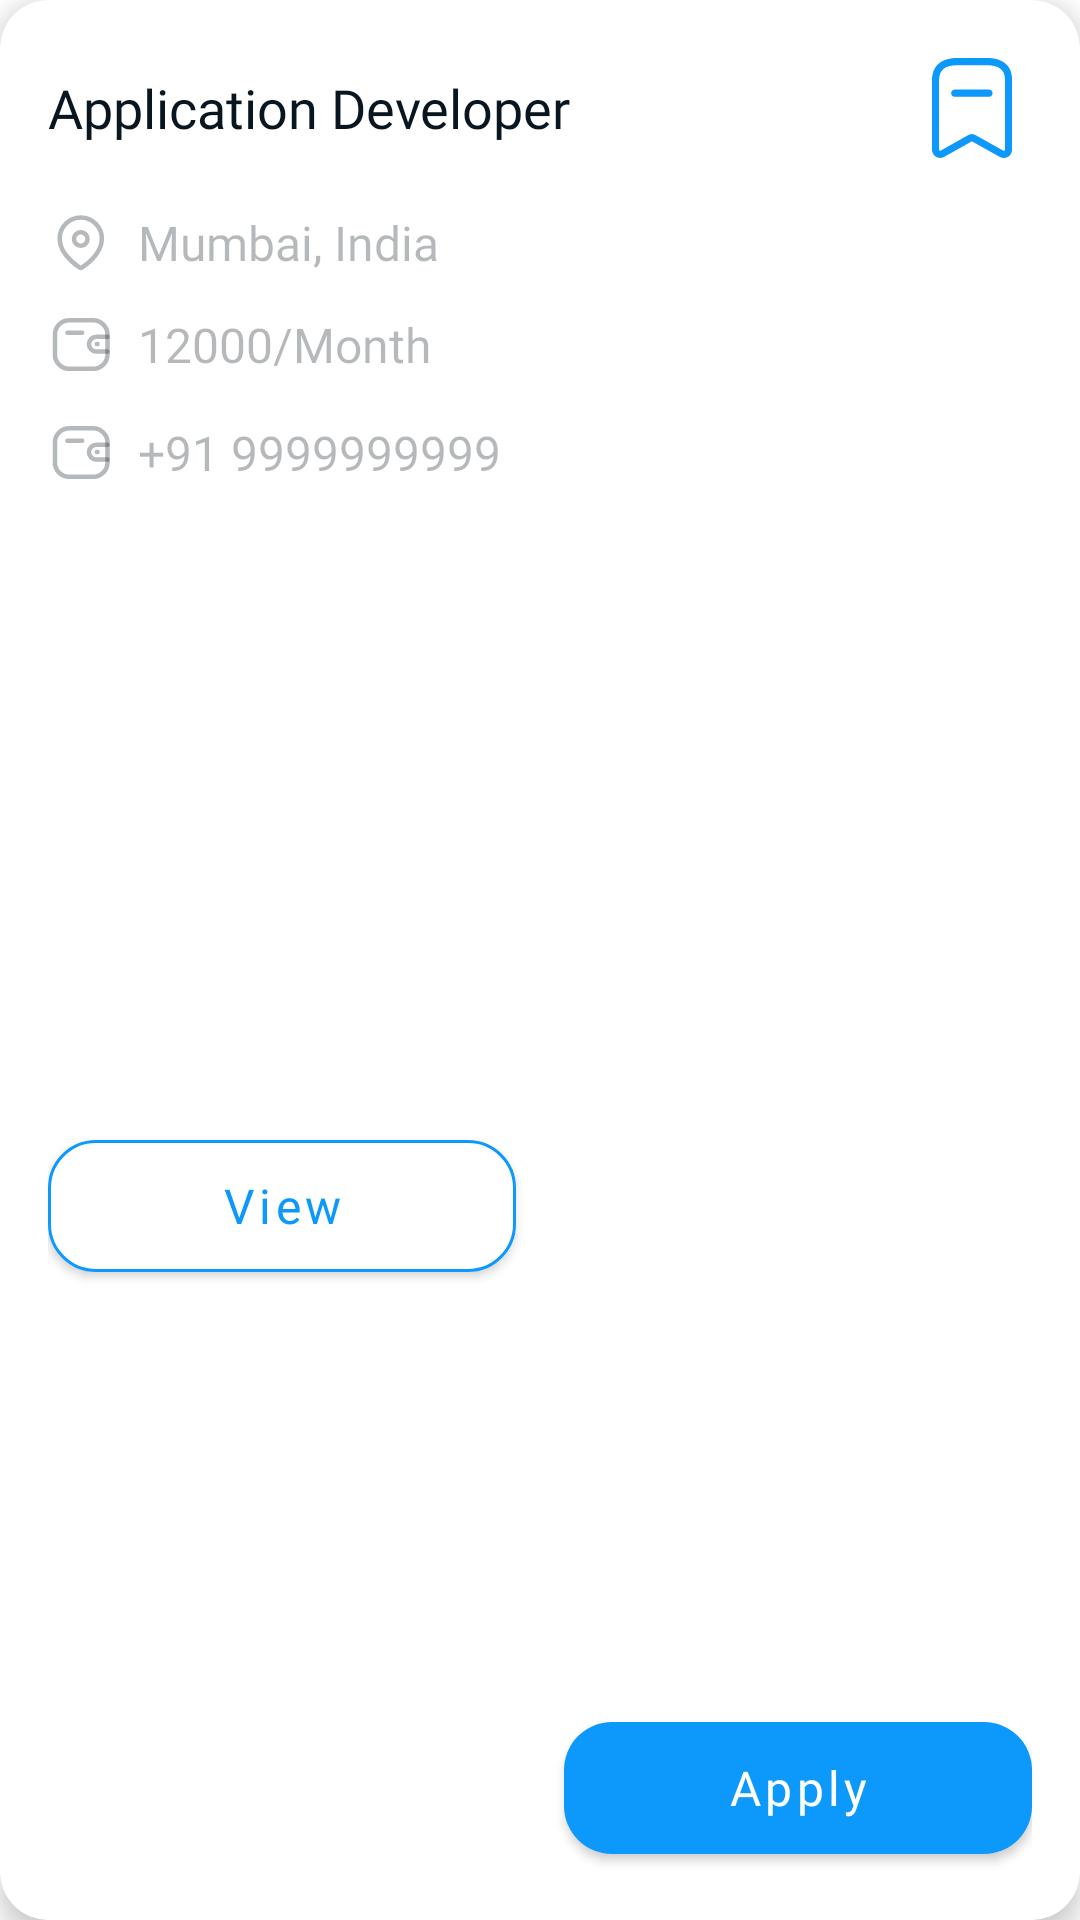

Locate icon controls on the screen. Image size 1080×1920, boxes as (x1, y1, x2, y2).
Bookmark: (932, 58, 1012, 158)
location: (57, 215, 104, 270)
wallet: (53, 318, 110, 371), (53, 426, 110, 479)
